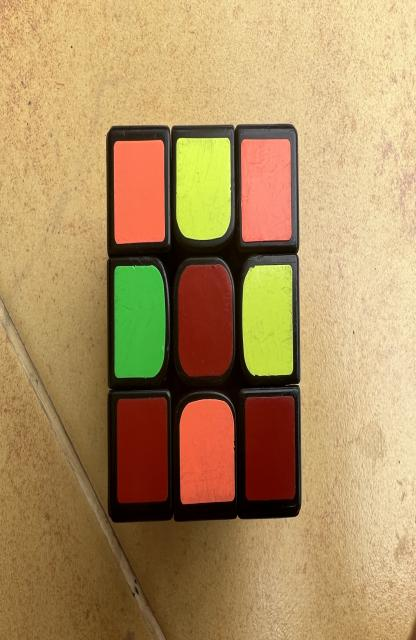Green: (115, 265, 166, 378)
Orange: (180, 398, 235, 505), (241, 138, 292, 242), (114, 140, 165, 243)
Red: (178, 263, 233, 377), (117, 397, 168, 503), (245, 397, 296, 500)
Yellow: (242, 265, 293, 377), (176, 137, 231, 240)
